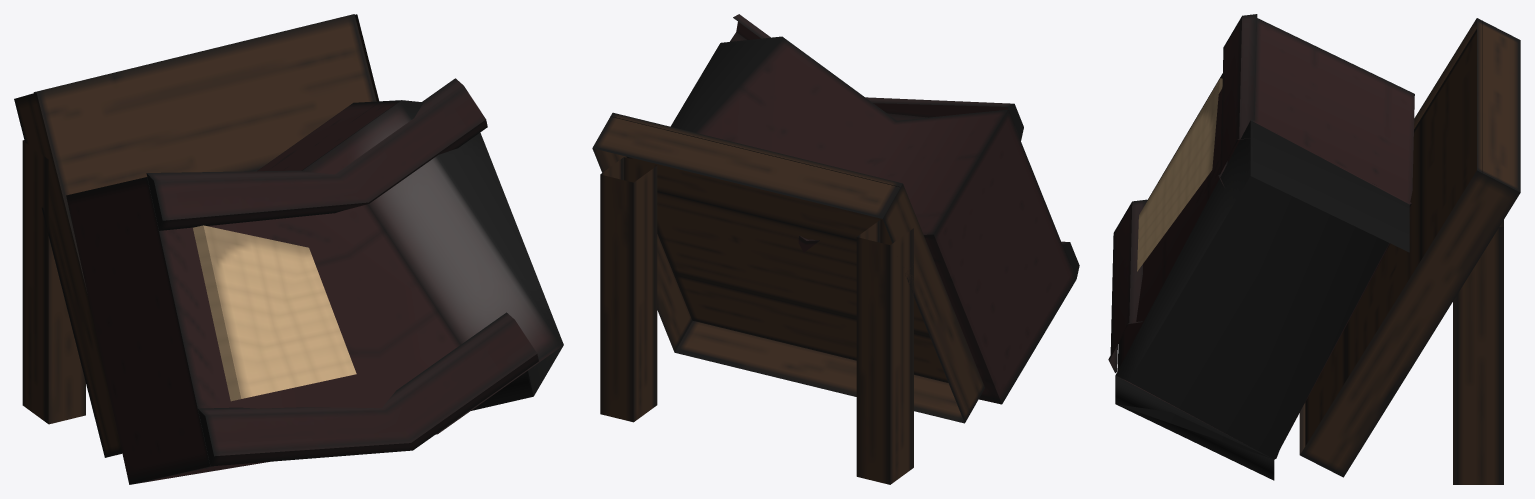
The model's file is Radio.destroyed.fbx.
3 views of the same model, side by side, from view 1: azimuth 30°, elevation 25°; view 2: azimuth 150°, elevation 25°; view 3: azimuth 270°, elevation 25° (orthographic). The views are drawn at different scales.
Parts seen in each view (by area): view 1: Radio_Destr; view 2: Radio_Destr; view 3: Radio_Destr.
Part boxes in pixels (x1=…): Radio_Destr: x1=14, y1=14, x2=563, y2=484; Radio_Destr: x1=592, y1=14, x2=1079, y2=484; Radio_Destr: x1=1108, y1=14, x2=1520, y2=484.
Bounding box in the file's own units: 0.8776 × 0.7626 × 0.8379.
1 material, 1 textured.
